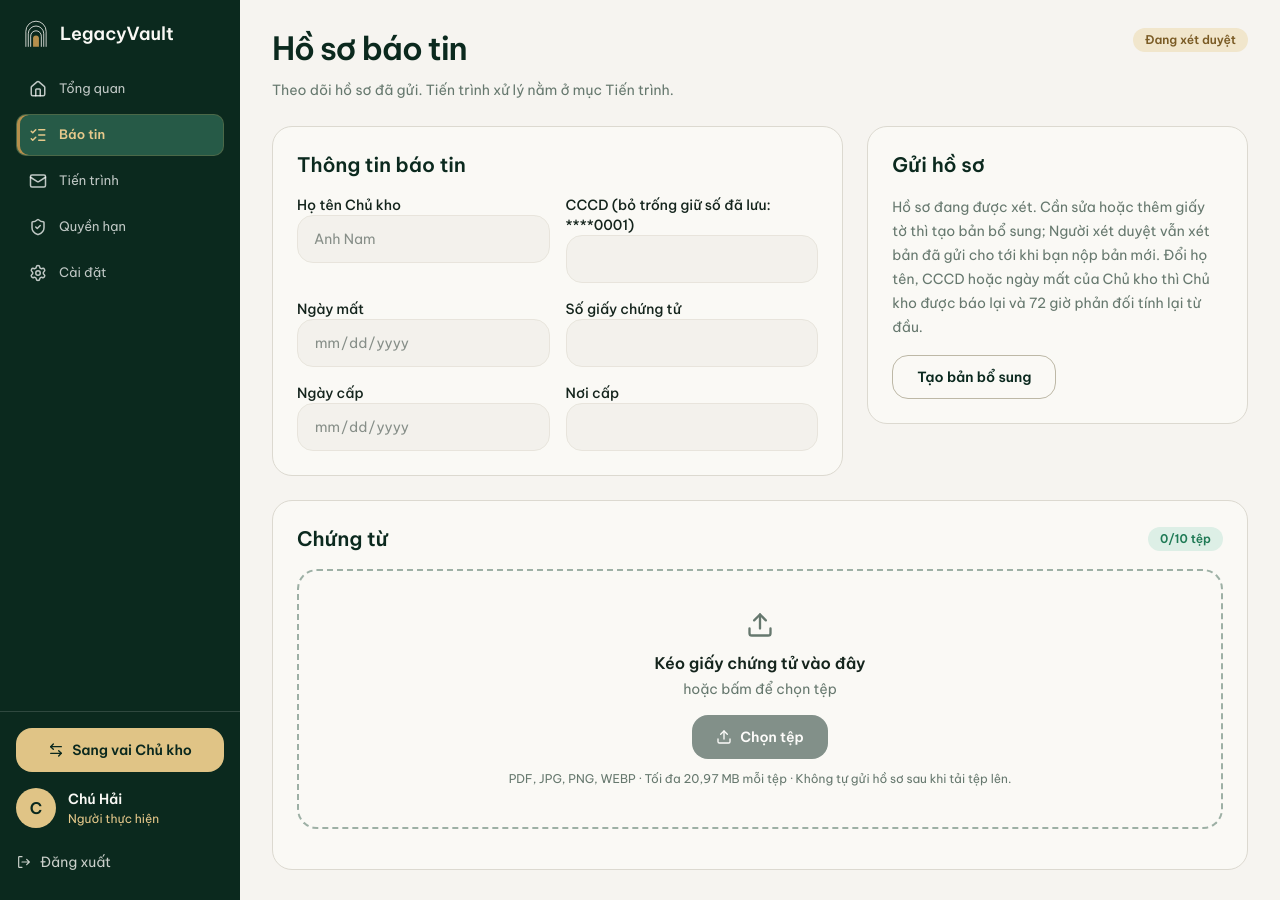
Scenario: Executor report › explains the supplement while under review and confirms the new draft version
Expected: the text "Người xét duyệt vẫn xét bản đã gửi cho tới khi bạn nộp bản mới" is shown, [892,198,1210,336]
What coordinates should you click on to do the following:
click the button "Tạo bản bổ sung"
I would click on:
 (974, 377)
Its box is [892,355,1056,399].
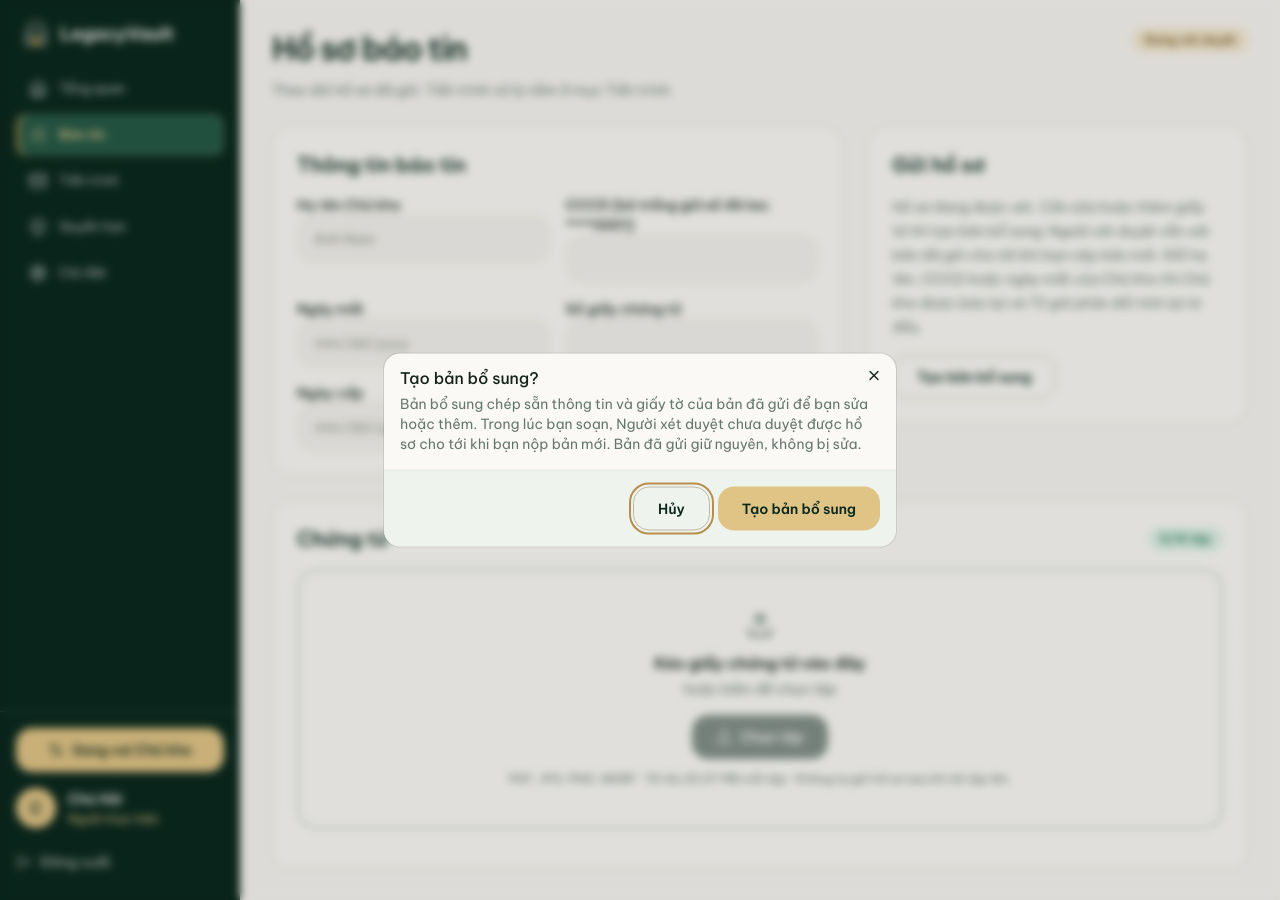
Result: the dialog shows "Người xét duyệt chưa duyệt được hồ sơ" at [400,394,868,452]
What coordinates should you click on to do the following:
click the button "Hủy"
I would click on:
 (671, 508)
Its box is [633,486,710,530].
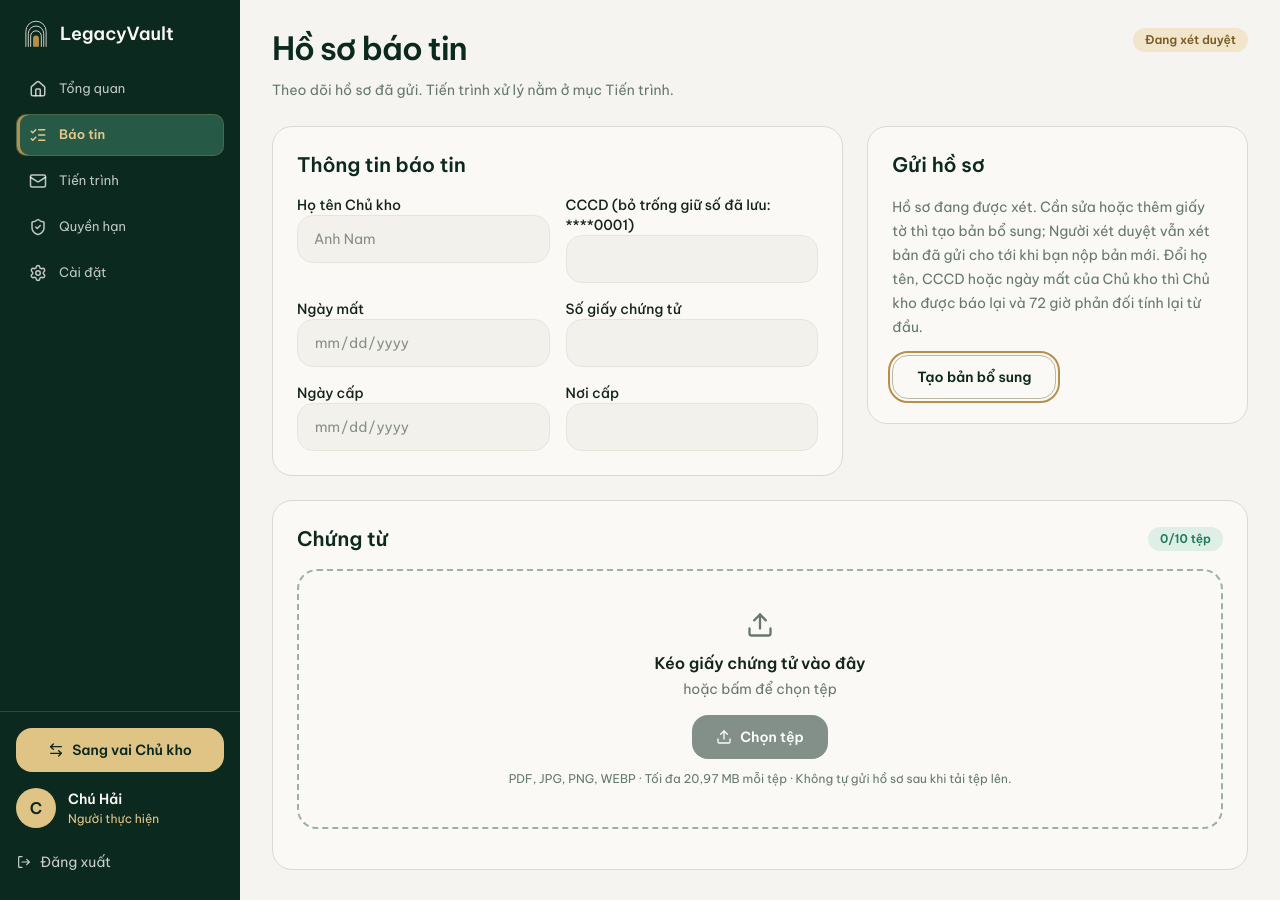
Result: the dialog is gone
What coordinates should you click on to do the following:
click the button "Tạo bản bổ sung"
I would click on:
 (974, 377)
Its box is [892,355,1056,399].
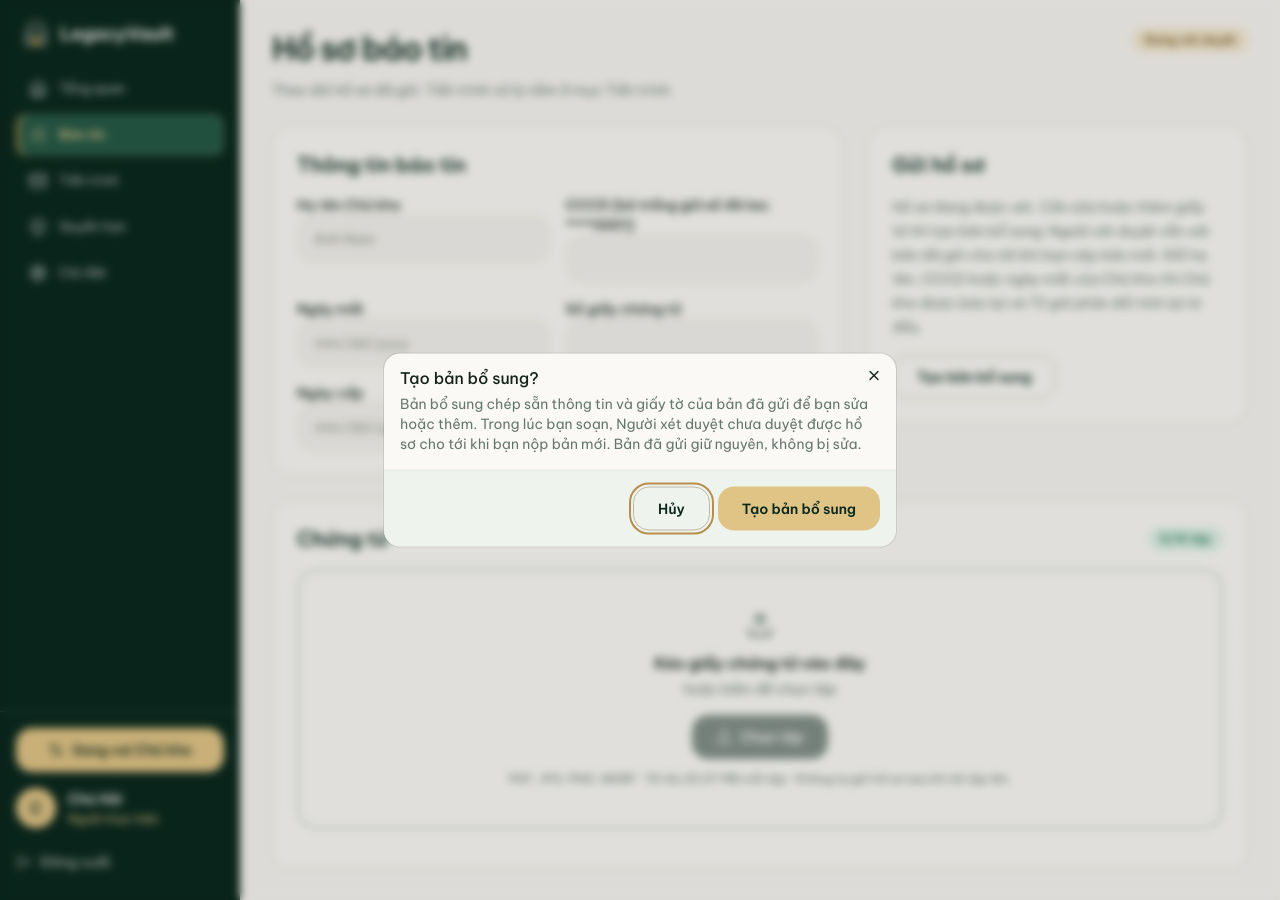
What coordinates should you click on to do the following:
click the button "Tạo bản bổ sung"
I would click on:
 (799, 508)
Its box is [718,486,880,530].
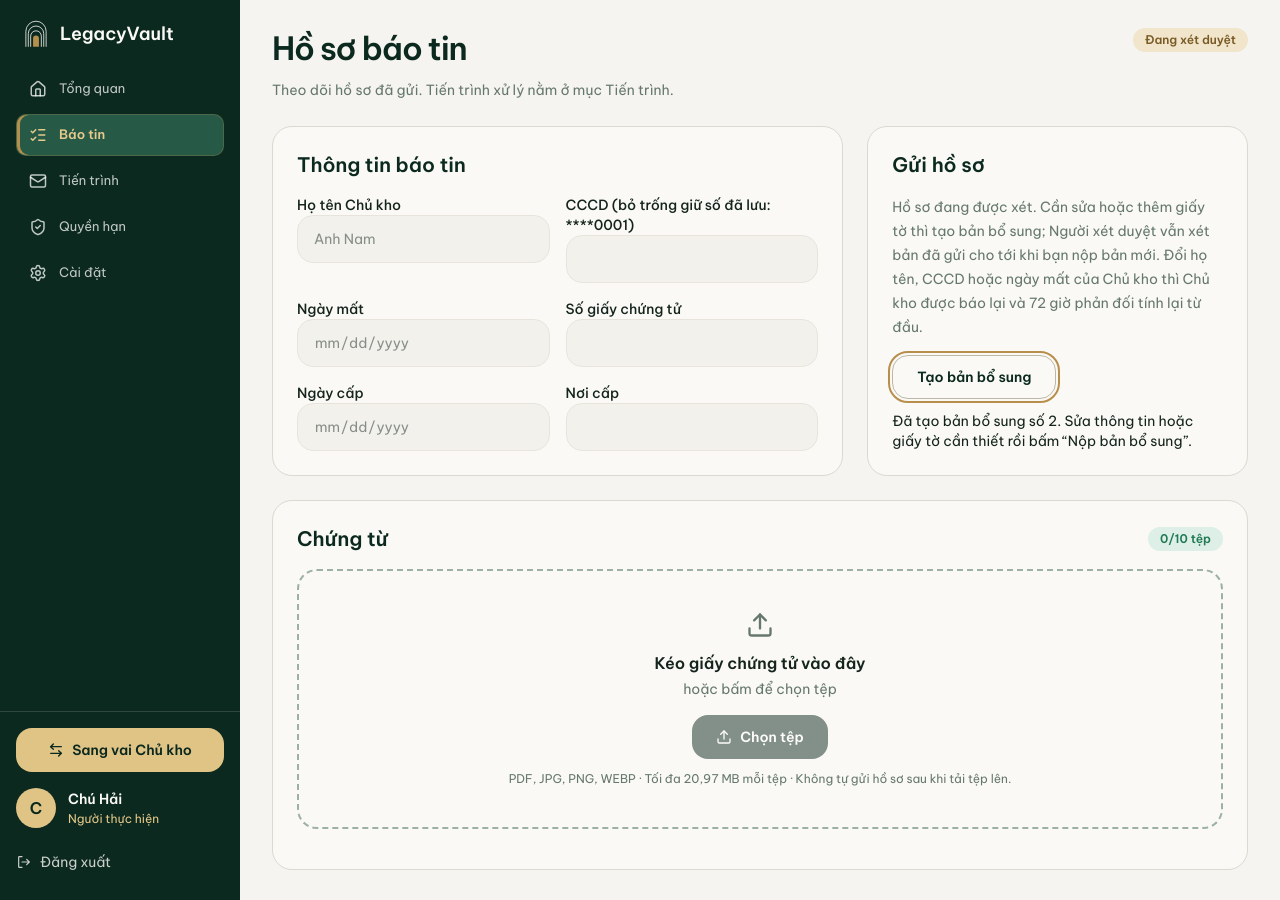
Result: the text "Đã tạo bản bổ sung số 2" is shown at [892,412,1193,450]
